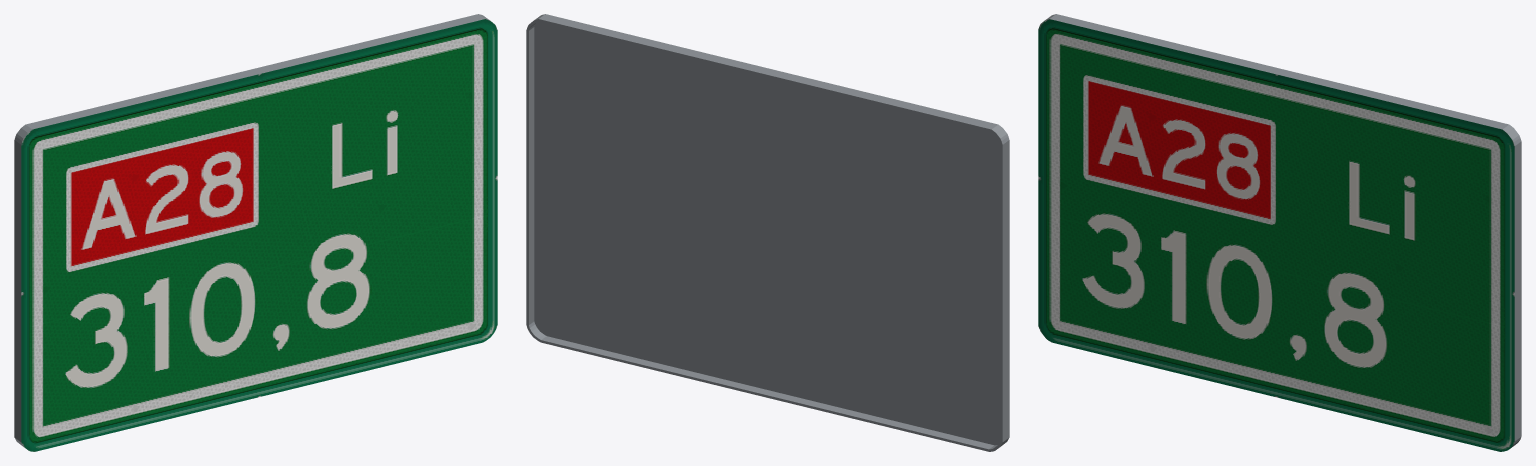
3 renders of one model, left to right at view 1: azimuth 30°, elevation 25°; view 2: azimuth 150°, elevation 25°; view 3: azimuth 330°, elevation 25°, orthographic.
Visible parts, largest first — view 1: cat_28ce35c2fdf2bb15; view 2: cat_28ce35c2fdf2bb15; view 3: cat_28ce35c2fdf2bb15.
Boxes of the visible parts, <box> form: cat_28ce35c2fdf2bb15: <box>14,14,497,451</box>; cat_28ce35c2fdf2bb15: <box>526,14,1009,451</box>; cat_28ce35c2fdf2bb15: <box>1038,14,1521,451</box>.
Bounding box in the file's own units: 0.6 × 0.015 × 0.3889.
2 materials, 1 textured.
